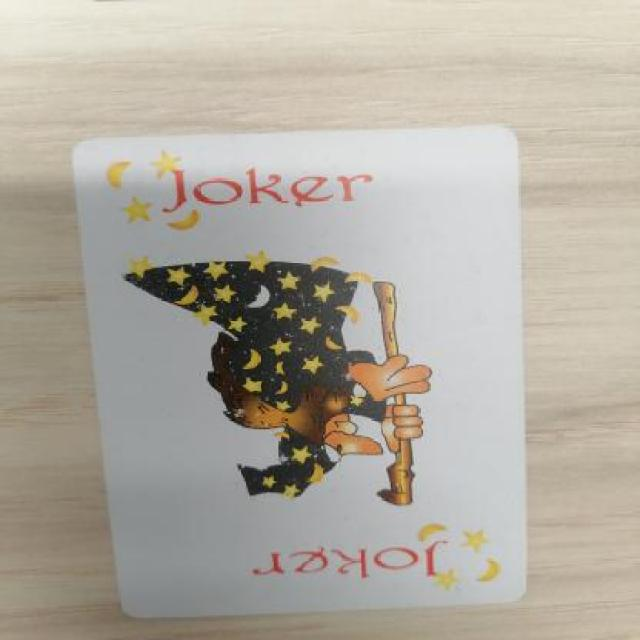BLACK JOKER: (81, 147, 408, 251), (212, 518, 528, 597)
